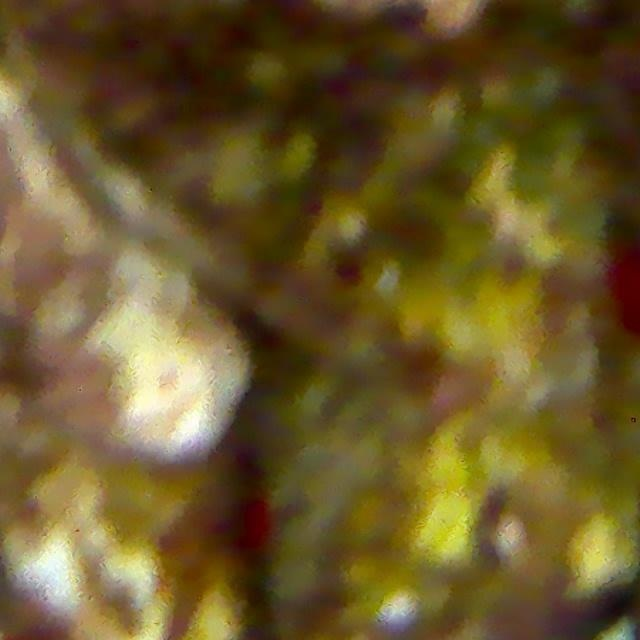SeaGrape: (297, 33, 353, 88), (65, 0, 120, 51), (130, 36, 177, 84)
